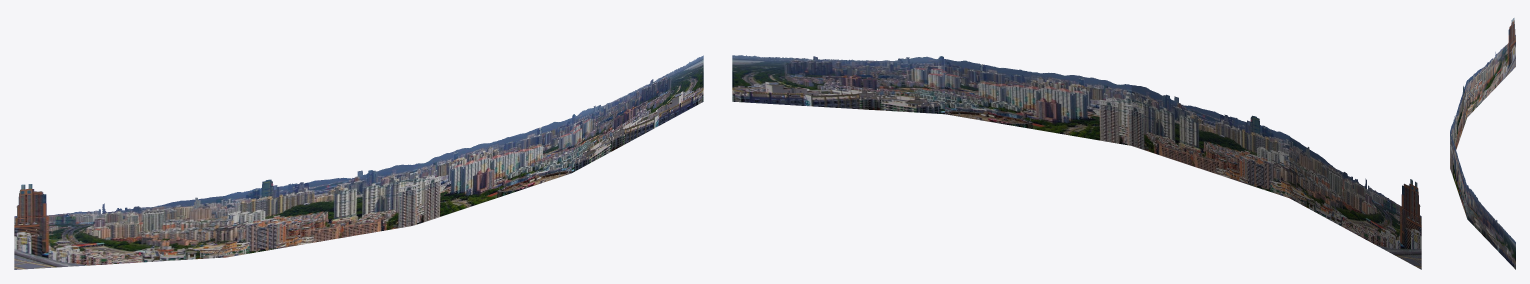
The picture shows the model from 3 angles, left to right: view 1: azimuth 30°, elevation 25°; view 2: azimuth 150°, elevation 25°; view 3: azimuth 270°, elevation 25°; orthographic projection. The views are drawn at different scales.
Parts seen in each view (by area): view 1: bj4, bj3, bj2, bj1; view 2: bj2, bj1, bj3, bj4; view 3: bj4, bj1, bj2, bj3.
Part boxes in pixels (<box>): bj4: <box>14,184,226,269</box>; bj3: <box>227,164,413,257</box>; bj2: <box>413,118,571,225</box>; bj1: <box>571,55,703,172</box>; bj2: <box>945,59,1131,145</box>; bj1: <box>732,55,944,114</box>; bj3: <box>1131,85,1289,198</box>; bj4: <box>1289,136,1421,269</box>; bj4: <box>1467,18,1515,116</box>; bj1: <box>1467,185,1515,269</box>; bj2: <box>1450,132,1467,218</box>; bj3: <box>1450,80,1467,149</box>.
Bounding box in the file's own units: 553 × 67.28 × 75.78.
Materials: 4 (4 with a texture image).
